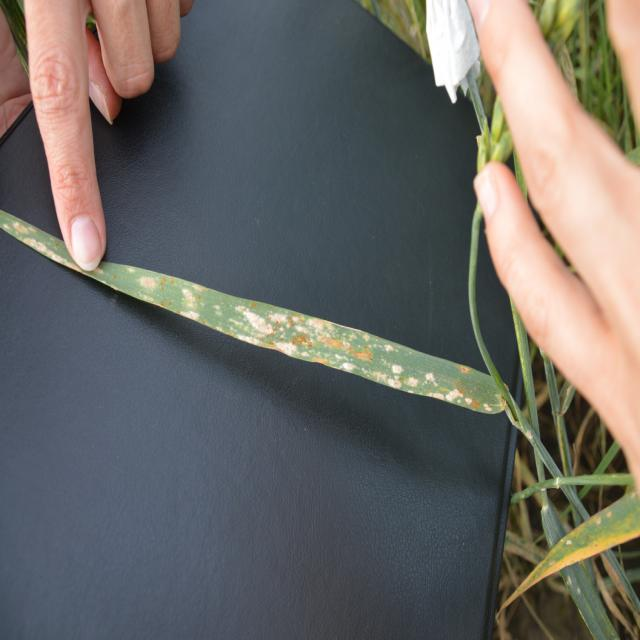wheat-powdery-mildew: (19, 238, 91, 278), (292, 314, 345, 351), (230, 304, 273, 339), (427, 387, 475, 405), (304, 317, 342, 337), (370, 370, 402, 388), (273, 343, 309, 359), (233, 333, 265, 345), (13, 220, 37, 235), (182, 288, 197, 308), (269, 312, 292, 325), (354, 327, 373, 342), (138, 276, 158, 290), (402, 376, 420, 388), (423, 371, 438, 384), (381, 340, 394, 354), (483, 399, 494, 413), (181, 310, 200, 318), (392, 363, 403, 375), (344, 364, 356, 375), (191, 284, 207, 291), (124, 267, 137, 274)
